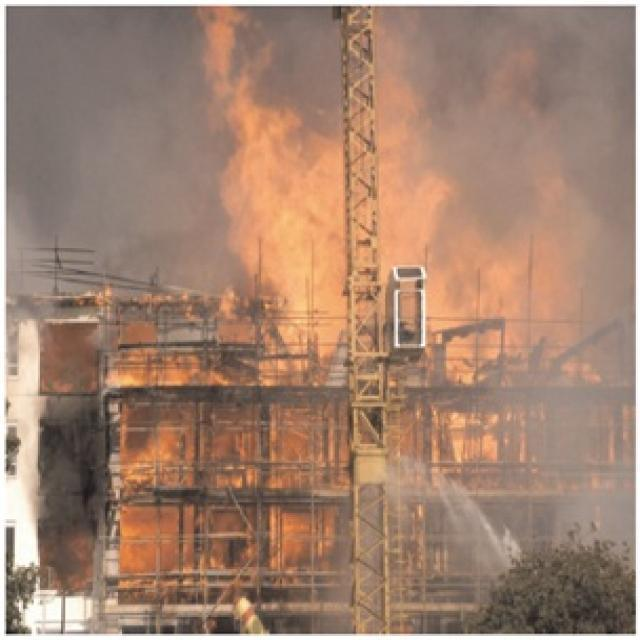Fire: (228, 118, 350, 312), (376, 148, 433, 282)
